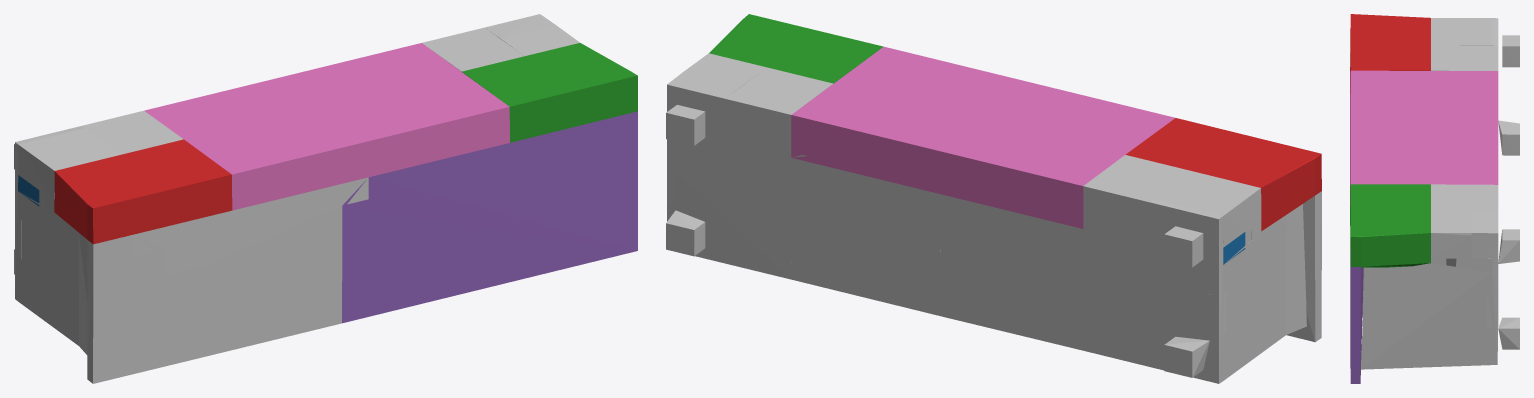
Rendered from Cabinet_Base_cvx.obj.
3 renders of one model, left to right at view 1: azimuth 30°, elevation 25°; view 2: azimuth 150°, elevation 25°; view 3: azimuth 270°, elevation 25°, orthographic. The views are drawn at different scales.
Visible parts, largest first — view 1: scenes/apartment_0000_coacd/output/Unknown/Cabinet/Cabinet_Base/; view 2: scenes/apartment_0000_coacd/output/Unknown/Cabinet/Cabinet_Base/; view 3: scenes/apartment_0000_coacd/output/Unknown/Cabinet/Cabinet_Base/.
Part boxes in pixels (x1=…): scenes/apartment_0000_coacd/output/Unknown/Cabinet/Cabinet_Base/: x1=14, y1=14, x2=637, y2=383; scenes/apartment_0000_coacd/output/Unknown/Cabinet/Cabinet_Base/: x1=666, y1=14, x2=1321, y2=383; scenes/apartment_0000_coacd/output/Unknown/Cabinet/Cabinet_Base/: x1=1350, y1=14, x2=1519, y2=383.
Size of the model in its own units: 2.51 by 0.774 by 0.809.
